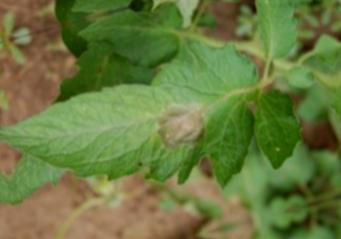Tomato leaf late blight: (0, 23, 284, 214)
